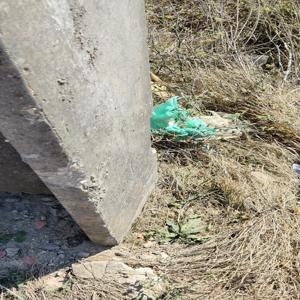plastic: (142, 95, 250, 145)
